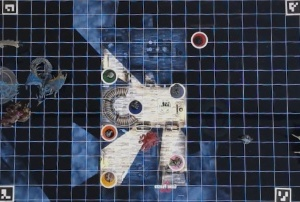blue: (130, 99, 144, 113)
green: (101, 67, 118, 86)
orange: (101, 122, 117, 140)
pink: (169, 153, 186, 173)
red: (190, 28, 210, 48)
violet: (169, 82, 186, 100)
yellow: (100, 169, 118, 188)
